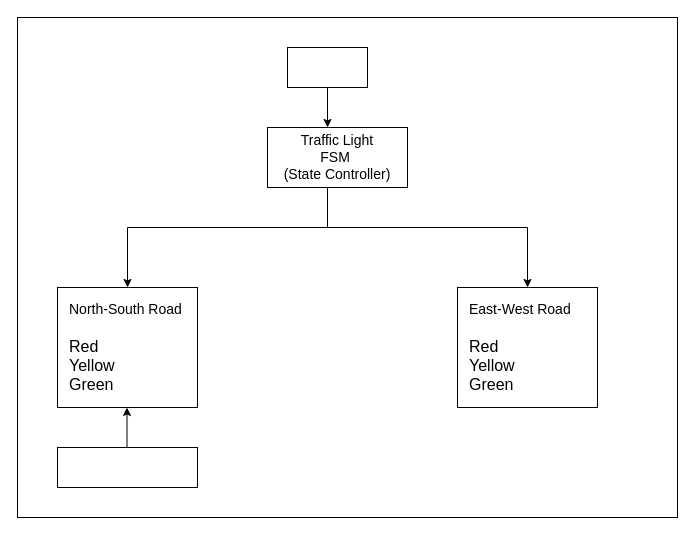
Some shapes in this 695 by 535 pixel diagram are drawn without their labels. The shapes that lost their labels are listed below. From the top down, each one's centre as x and y in pixels, then its label:
the point at 327,67: Clock (clk)
the point at 127,467: Emergency Input
